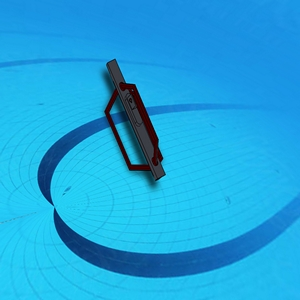submarine: (97, 53, 173, 181)
